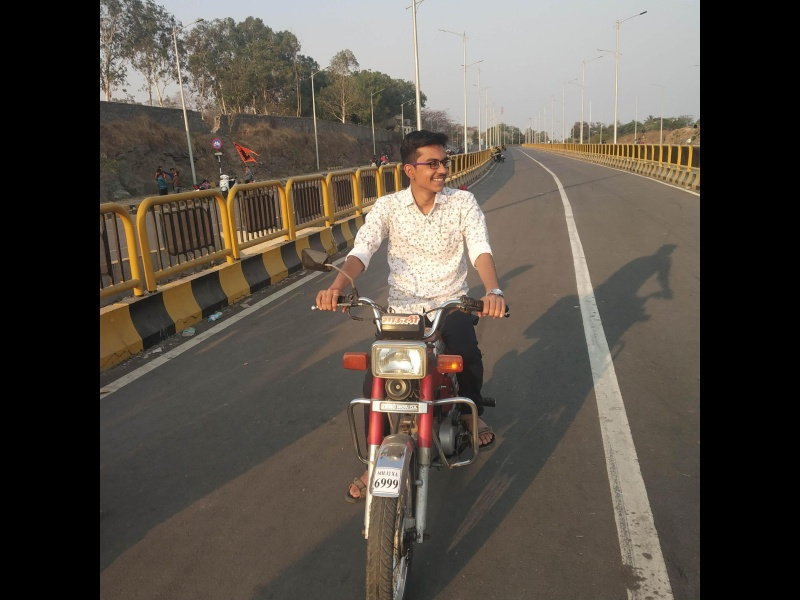nohelmet: (318, 128, 514, 600)
